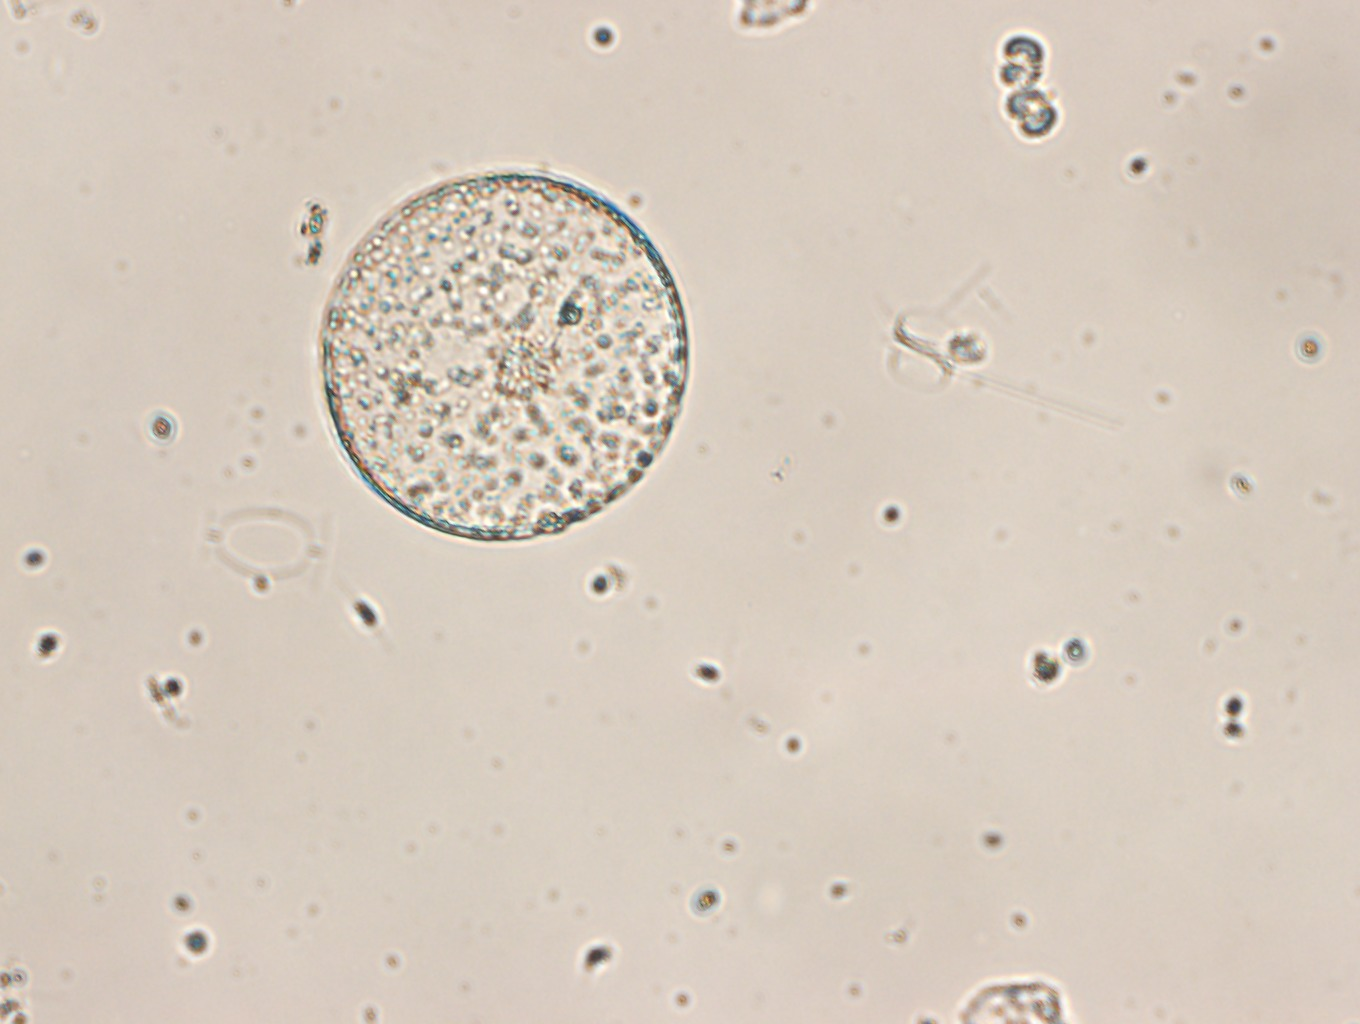coscinodiscus: (305, 163, 705, 547)
